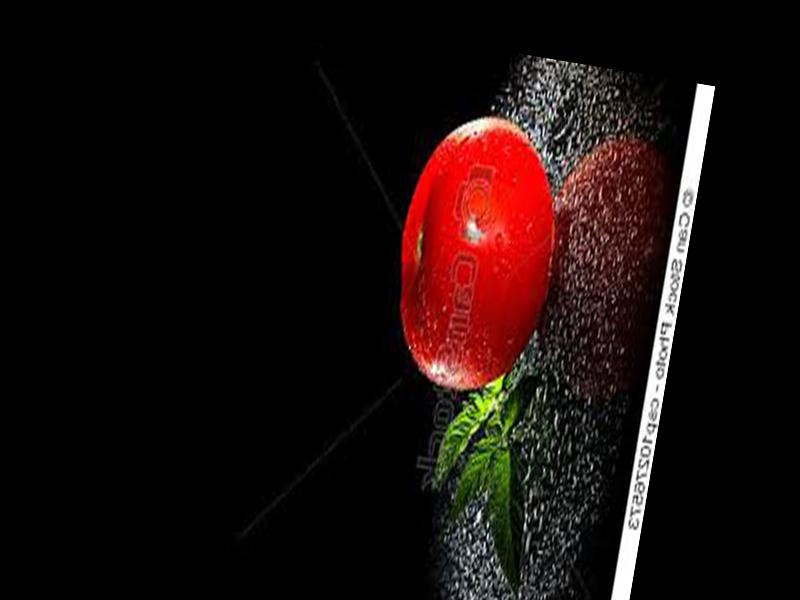Tomato: (379, 106, 573, 400)
